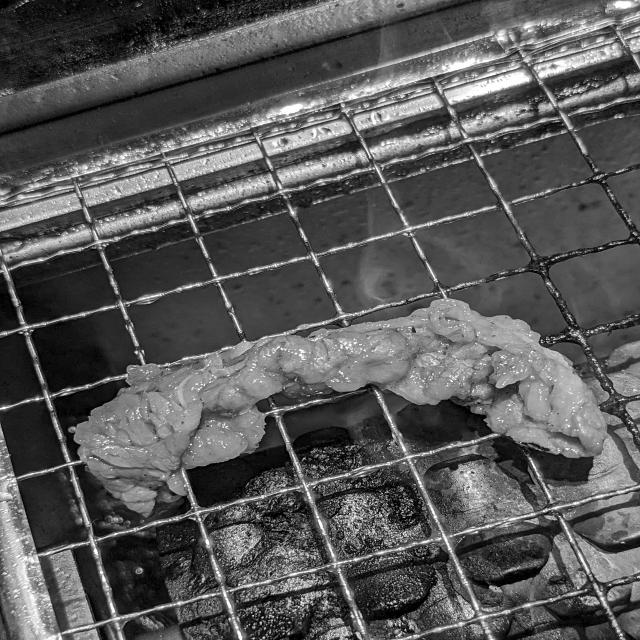OK undercooked beef,: (42, 286, 632, 532)
